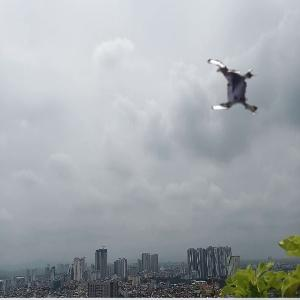drone: (202, 56, 267, 121)
